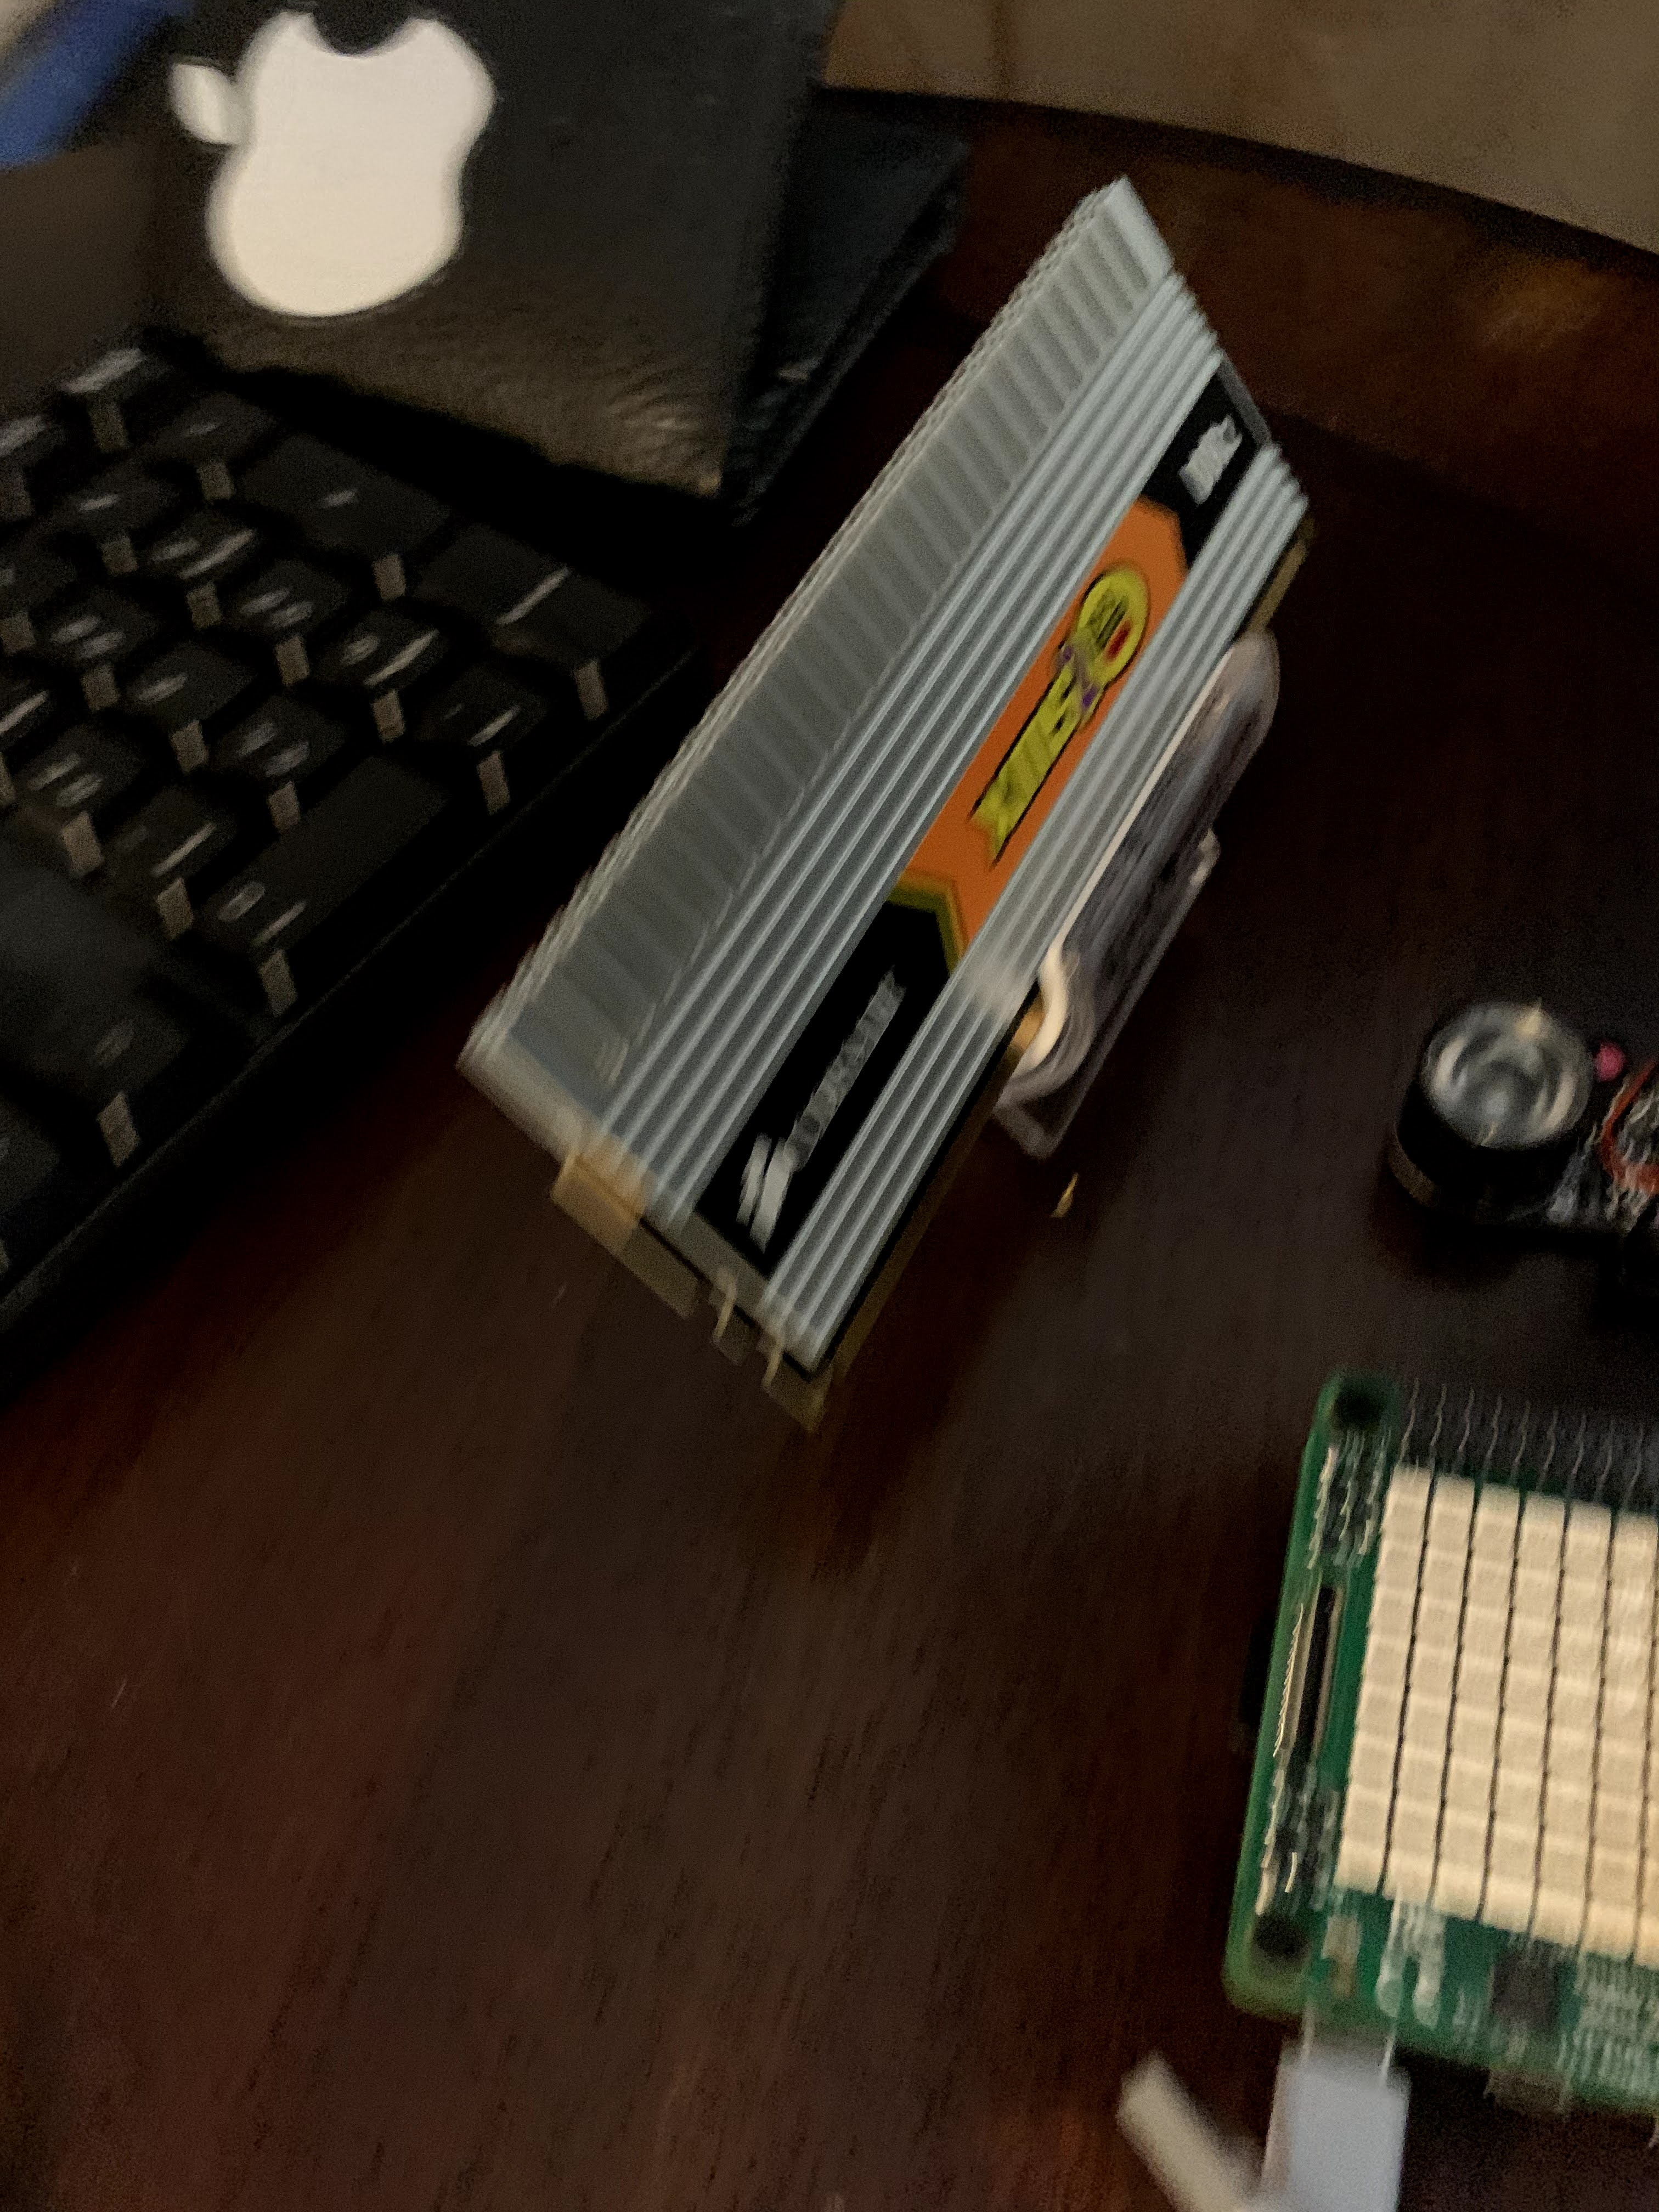Space-debris-medium: (408, 101, 1375, 1440)
